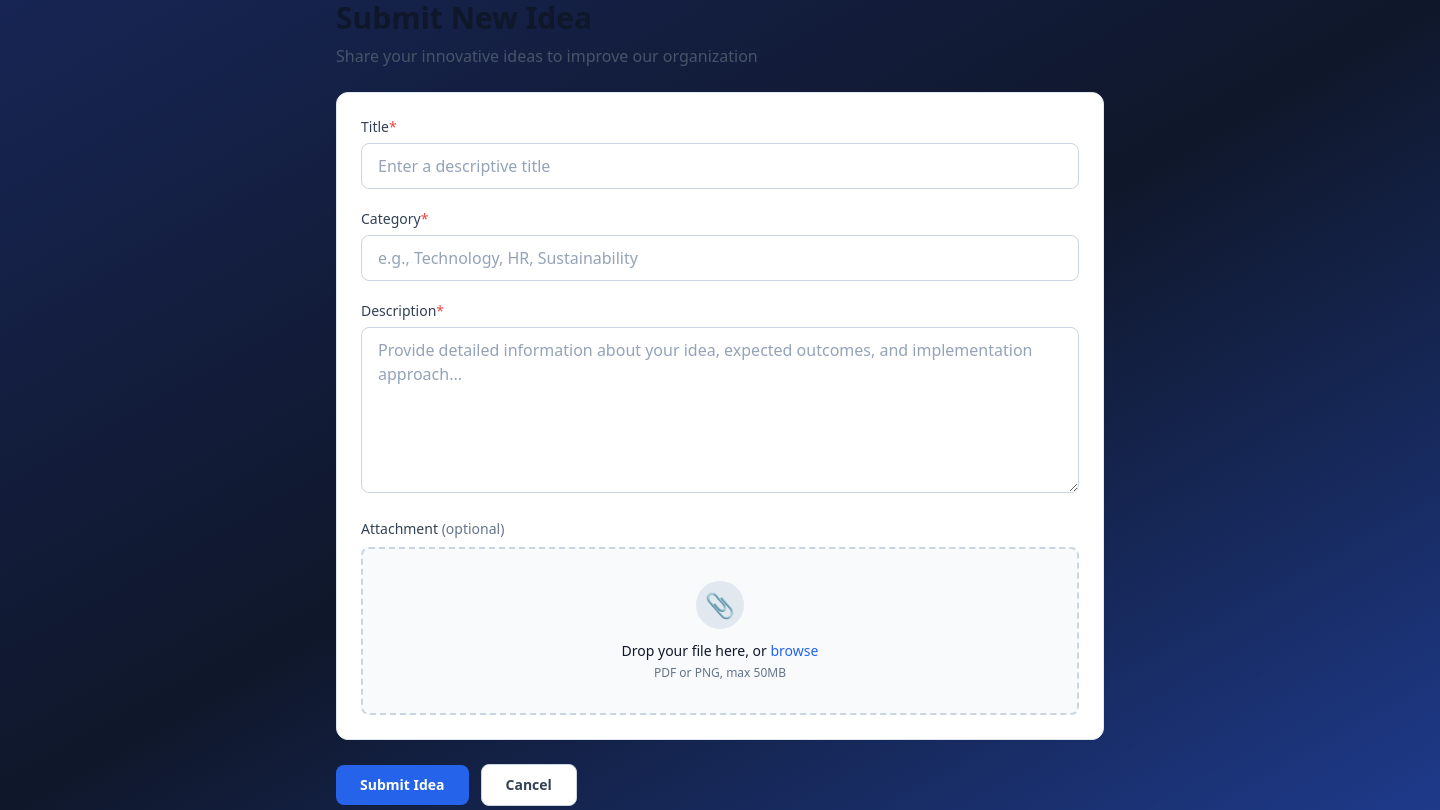
Test case: IdeaForm › should show validation errors for empty required fields
This screenshot has width=1440, height=810.
Click the button "Submit Idea".
click(402, 785)  # box [336,765,468,805]
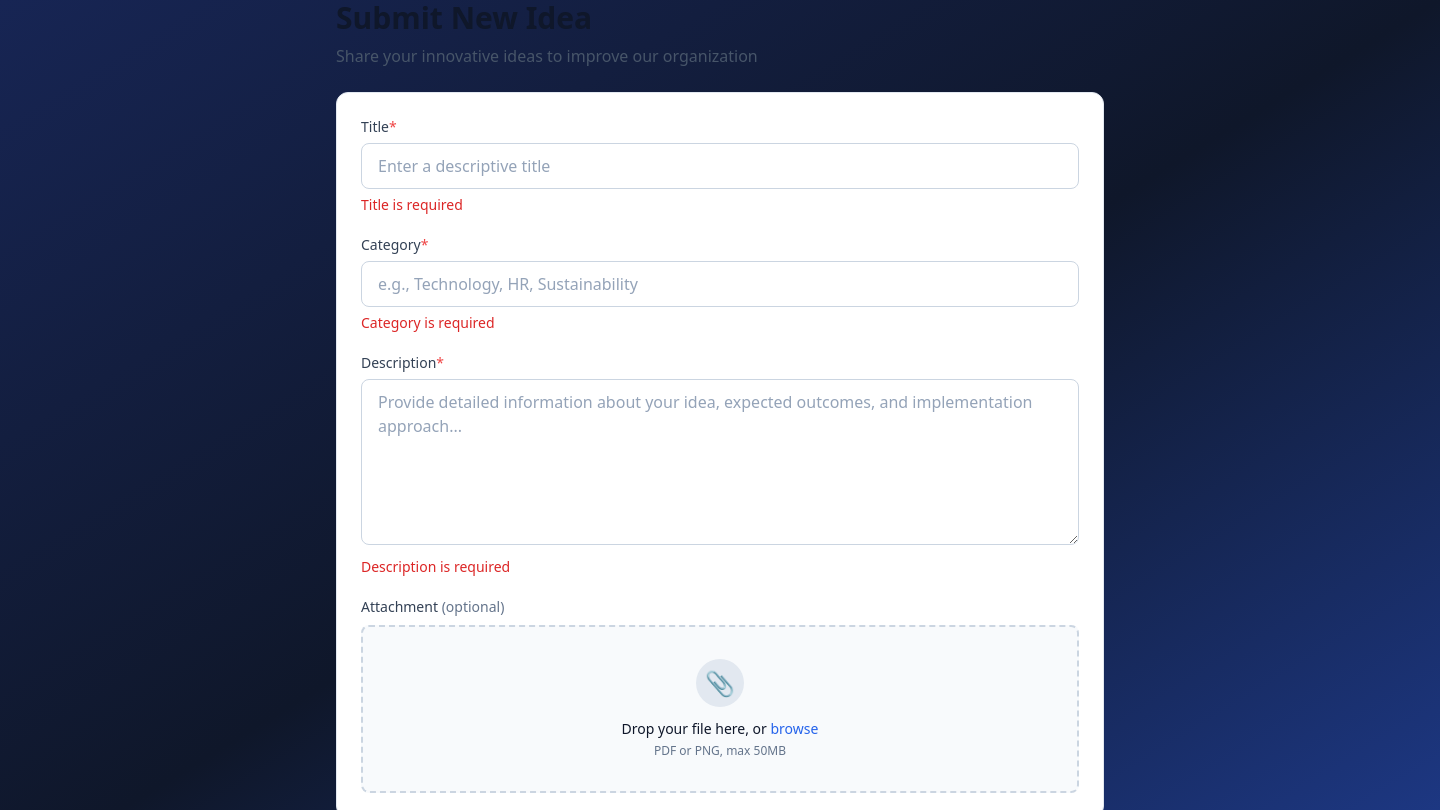
expect the text "Title is required" is shown: met, box [361,195,463,214]
